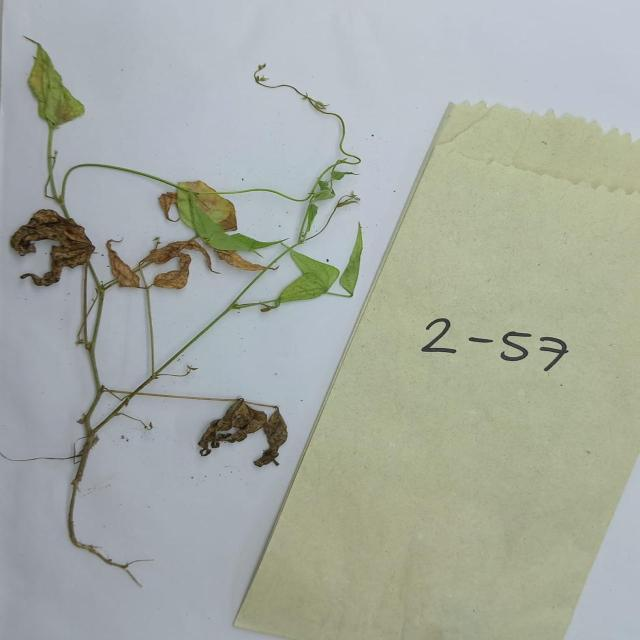Root: (54, 539, 150, 592)
Stem: (250, 67, 359, 151), (72, 282, 115, 436), (168, 308, 249, 368), (228, 267, 281, 328), (104, 384, 235, 408), (73, 431, 100, 538), (137, 283, 162, 382), (66, 164, 172, 186), (38, 130, 63, 206), (221, 181, 311, 201)
healty_leaves: (20, 34, 104, 129), (339, 223, 365, 294), (208, 227, 284, 248), (287, 246, 339, 276), (278, 276, 335, 302), (187, 196, 220, 239), (329, 158, 353, 182), (317, 173, 339, 198), (307, 195, 319, 229)
rooten_leaf: (11, 208, 95, 287), (197, 400, 288, 468), (177, 177, 249, 231), (142, 241, 215, 268), (105, 238, 139, 289), (214, 248, 280, 272), (152, 254, 192, 290), (156, 190, 188, 226)
